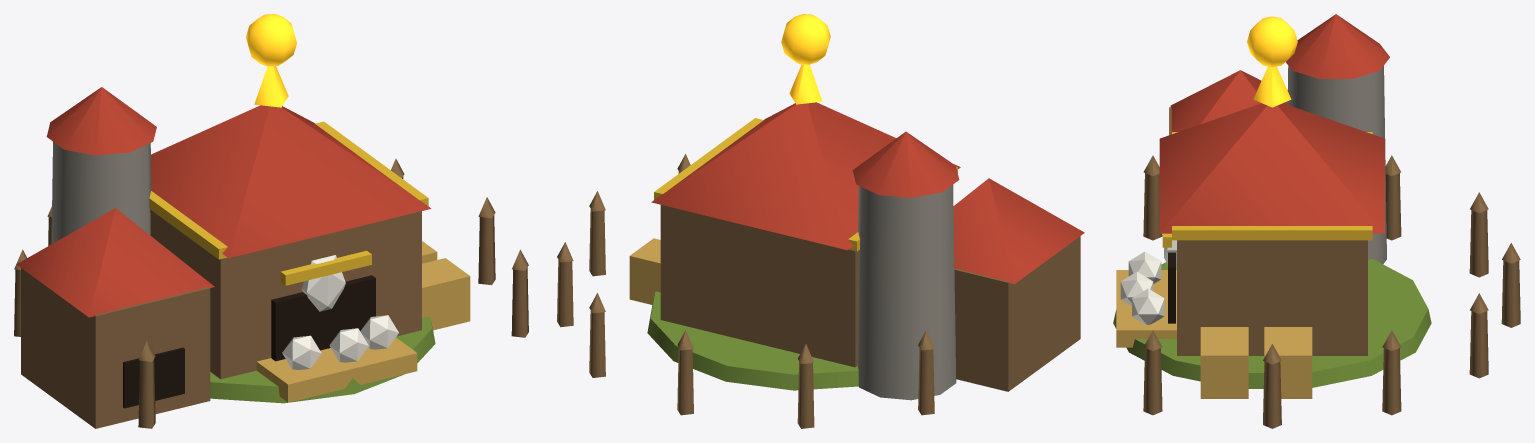
File: level5.glb
3 renders of one model, left to right at view 1: azimuth 30°, elevation 25°; view 2: azimuth 150°, elevation 25°; view 3: azimuth 270°, elevation 25°, orthographic. The views are drawn at different scales.
Size of the model in its own units: 3.2 by 2.11 by 2.56.
